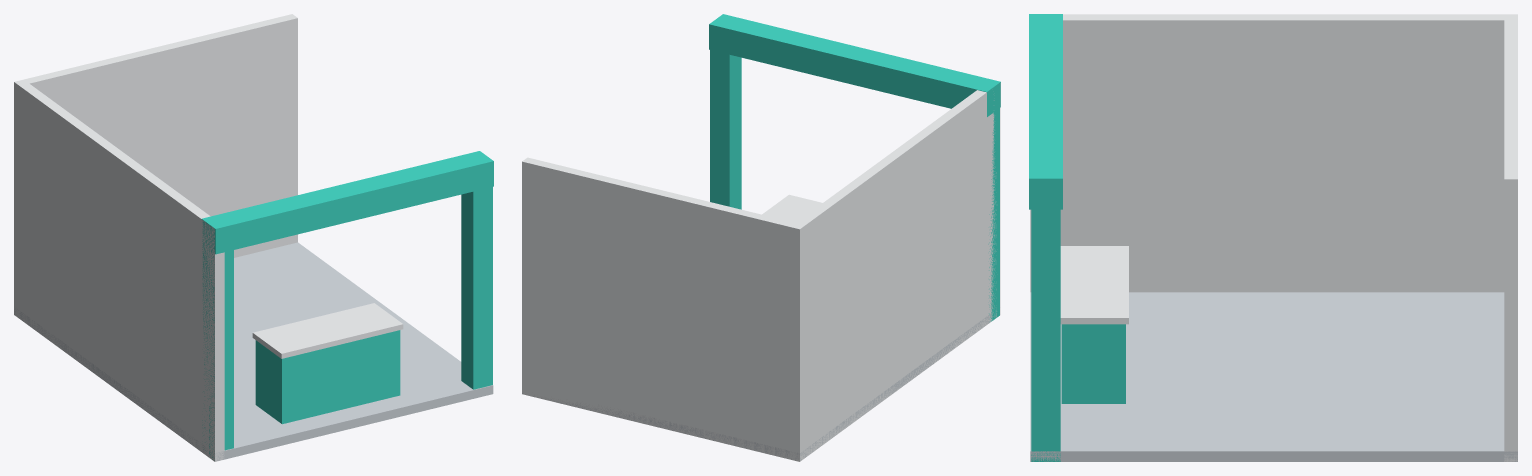
3 views of the same model, side by side, from view 1: azimuth 30°, elevation 25°; view 2: azimuth 150°, elevation 25°; view 3: azimuth 270°, elevation 25° (orthographic). The views are drawn at different scales.
Visible parts, largest first — view 1: Exhibition Booth Concept; view 2: Exhibition Booth Concept; view 3: Exhibition Booth Concept.
Boxes of the visible parts, box(x1,y1,x2,y2) form: Exhibition Booth Concept: box(14, 14, 493, 461); Exhibition Booth Concept: box(522, 14, 1000, 461); Exhibition Booth Concept: box(1029, 14, 1517, 461).
Bounding box in the file's own units: 4 × 3.2 × 5.02.
